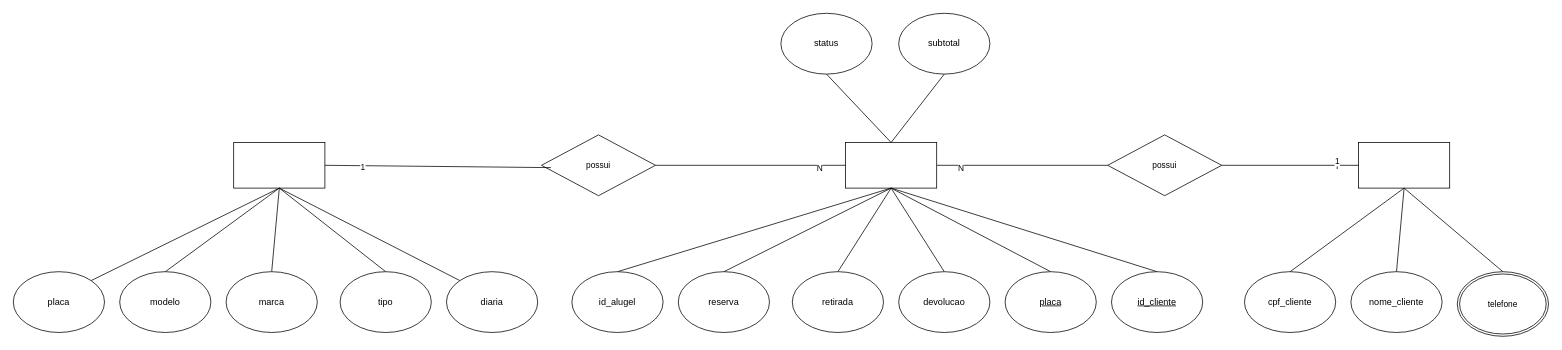
Some shapes in this 1562 by 350 pixel diagram are drawn without their labels. Here are the shapes that lost their labels. From the top down, the centre of each, then its label:
(279,165): Veiculo
(891,165): Aluguel
(1404,165): Cliente
